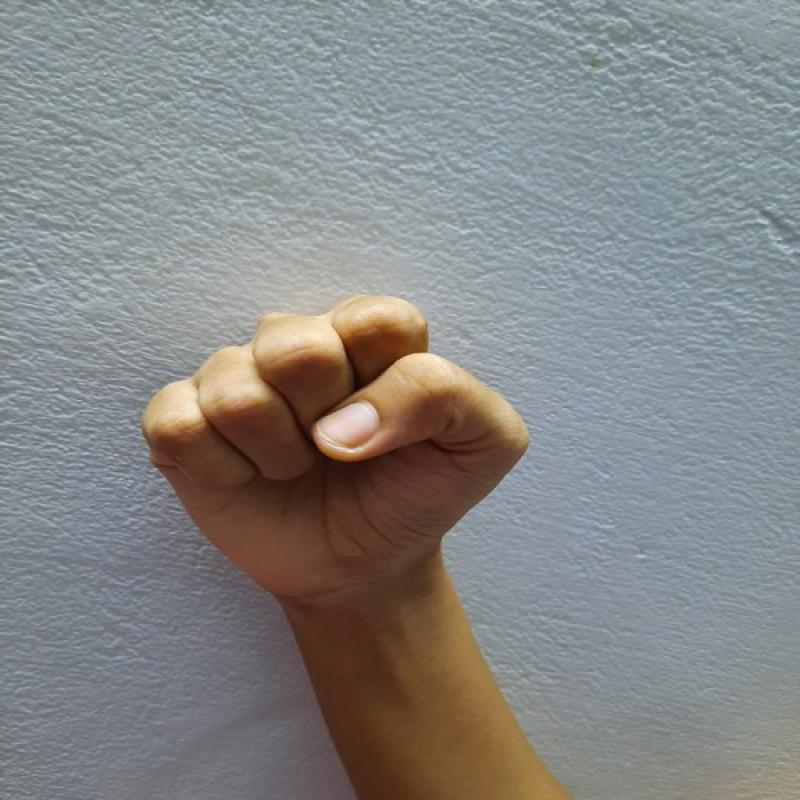Mushti: (121, 271, 541, 623)
